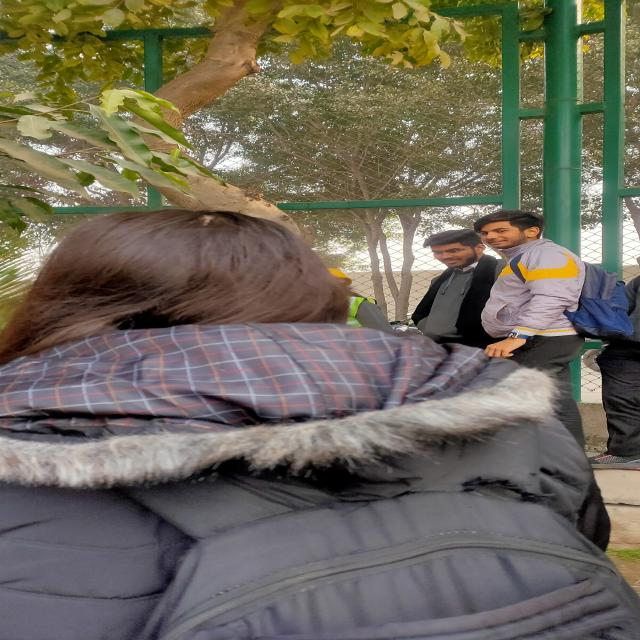unsafe: (474, 210, 585, 392), (413, 232, 488, 352)
